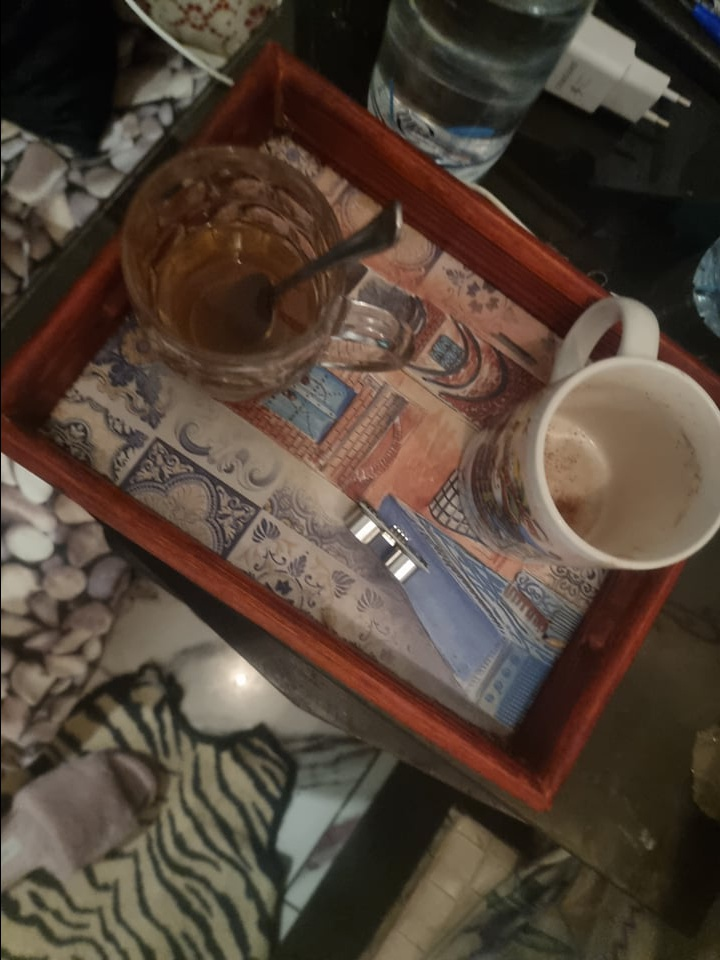SENSOR: (337, 498, 429, 588)
